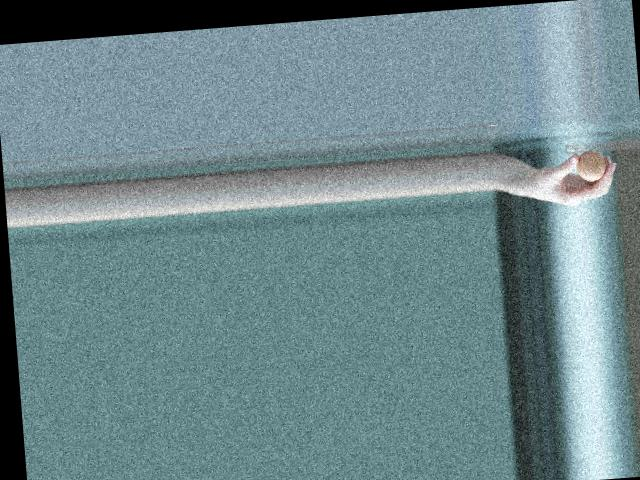egg: (575, 149, 607, 182)
